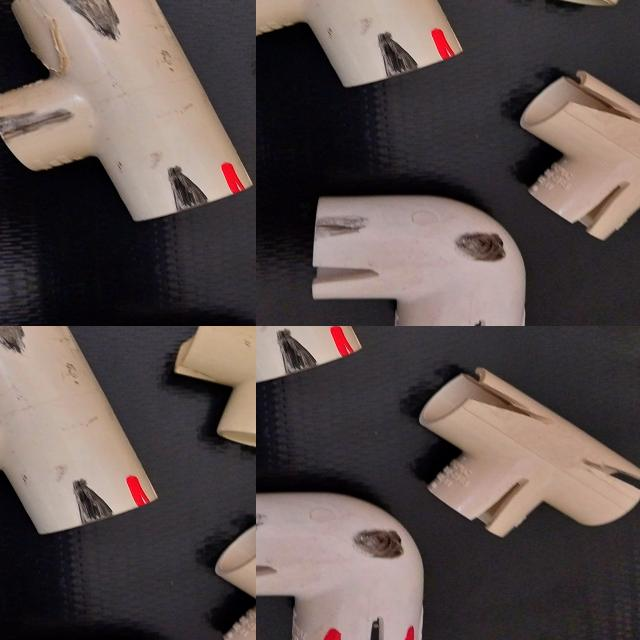Defective: (460, 365, 543, 427), (583, 456, 640, 499), (480, 480, 528, 530), (353, 530, 408, 560), (279, 333, 313, 377), (256, 546, 280, 588), (332, 328, 354, 356), (359, 618, 385, 640), (403, 630, 417, 640)
L Joint: (256, 488, 425, 640)
T Joint: (419, 361, 640, 539)
